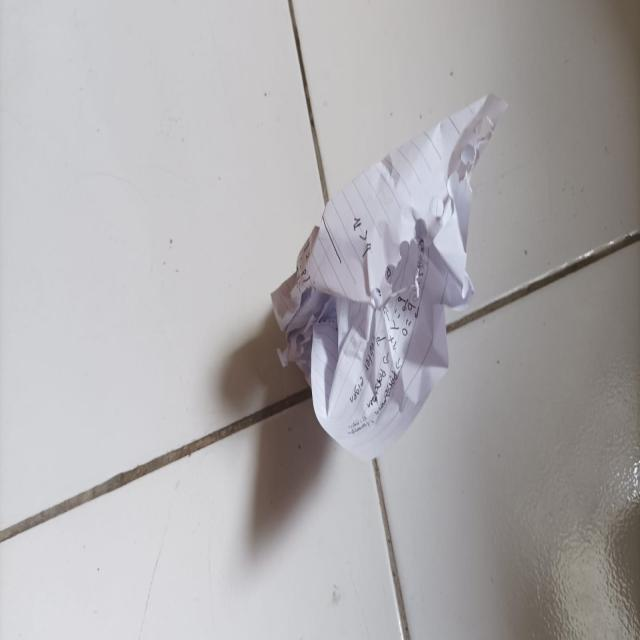Organik: (271, 93, 503, 448)
